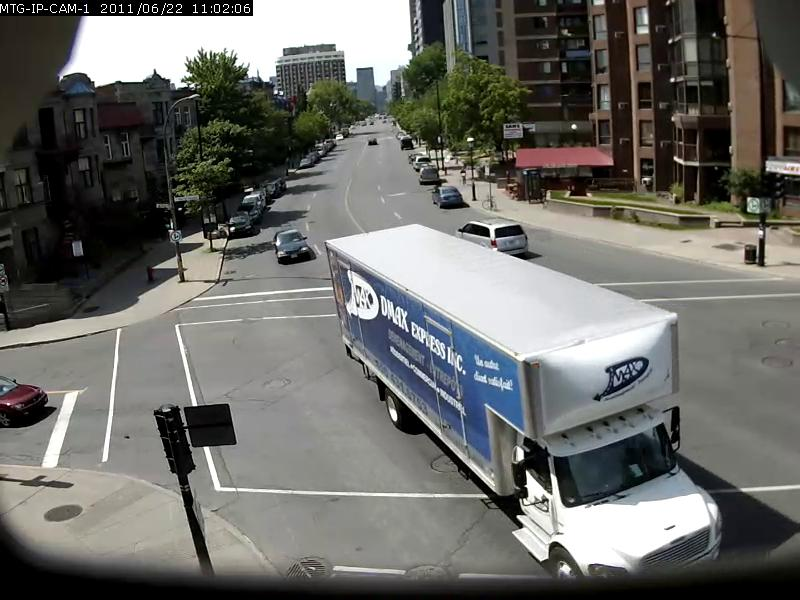Car: (270, 227, 313, 265)
Truck: (323, 224, 726, 584)
